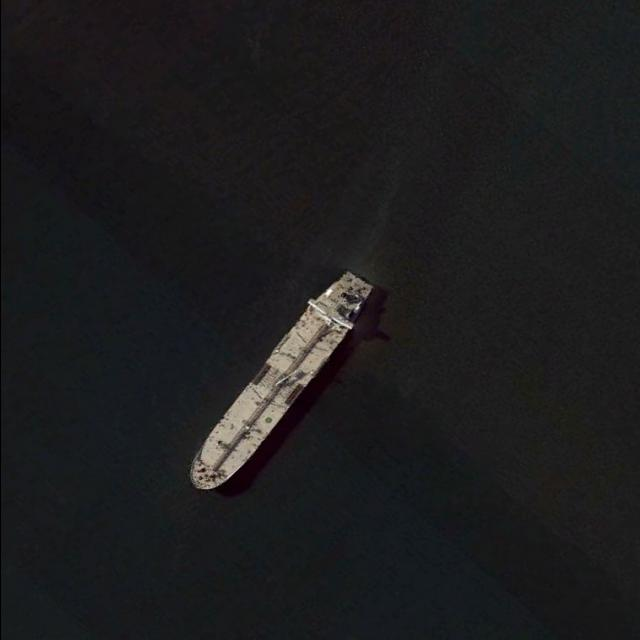ship: (190, 270, 372, 490)
